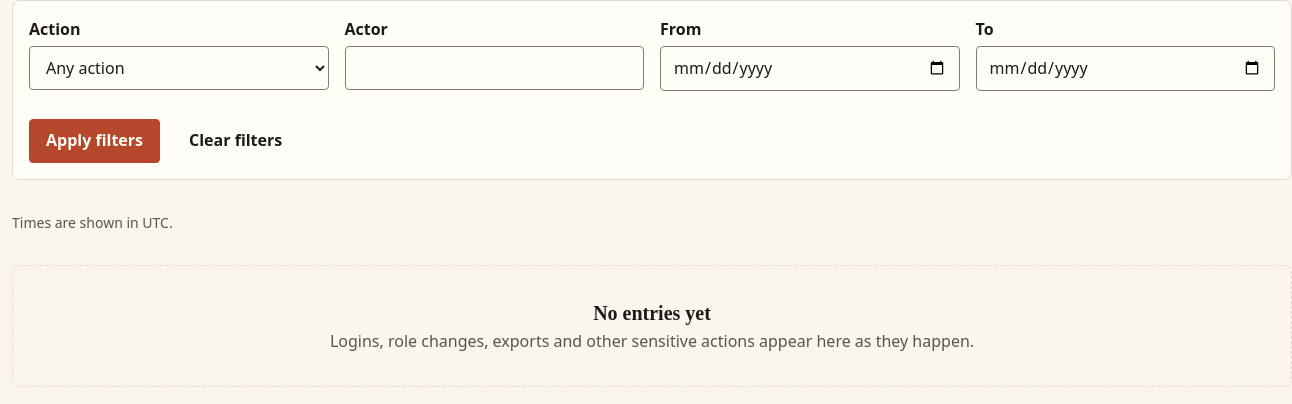
Test: AuditLog › says so when there are no entries and when filters match none
expect the text "No entries yet" is shown: met, box x1=593 y1=302 x2=711 y2=324
Step 1. Type "zed" into the field labelled "Actor" → (494, 68), box x1=344 y1=46 x2=644 y2=90
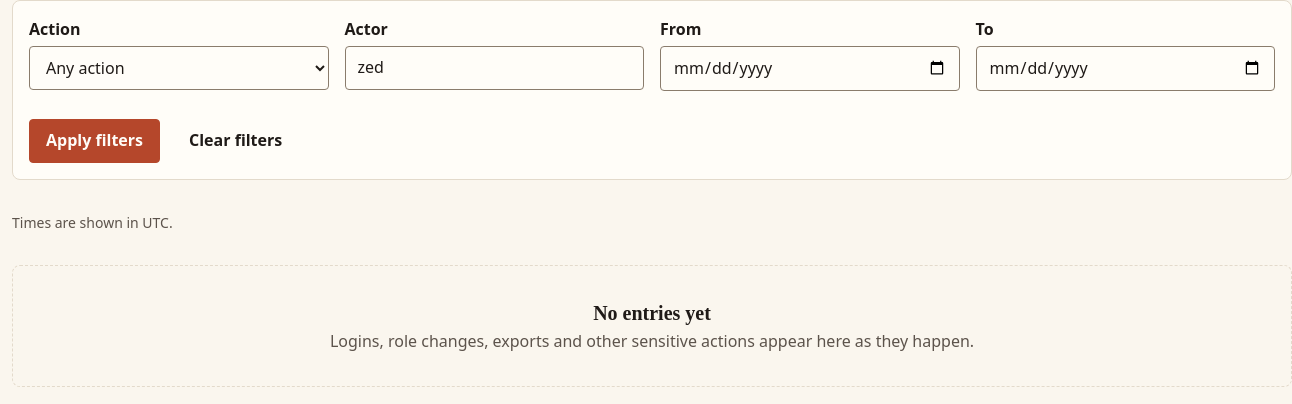
Step 2. Click the button "Apply filters" → (94, 141), box x1=29 y1=119 x2=160 y2=163
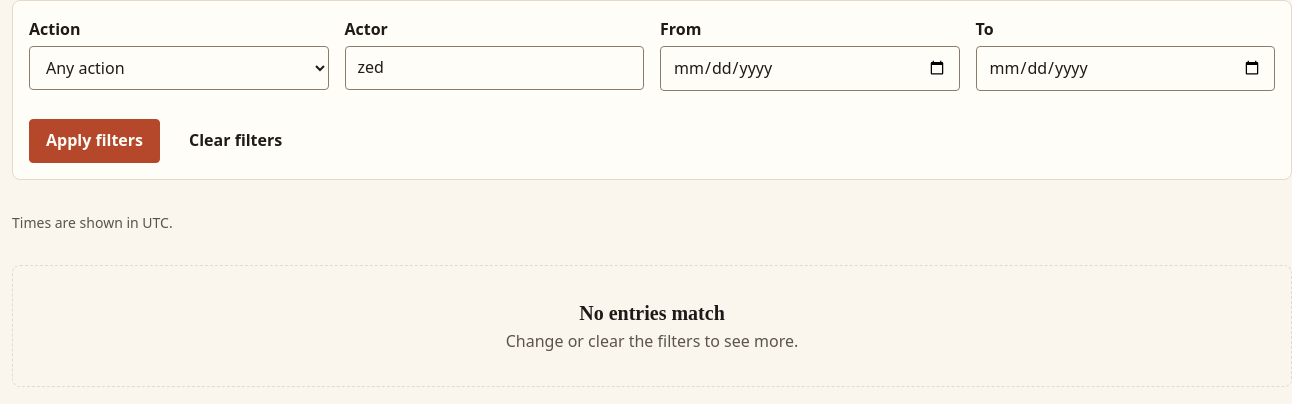
expect the text "No entries match" is shown: met, box x1=579 y1=302 x2=725 y2=324
